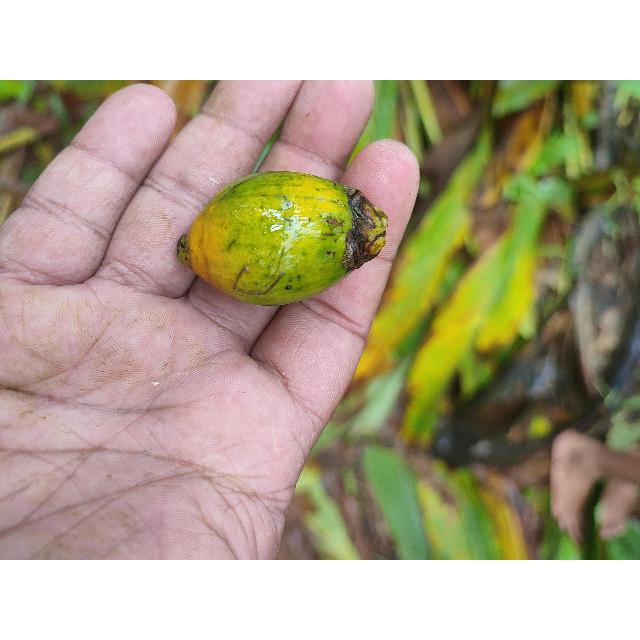good: (175, 171, 387, 308)
